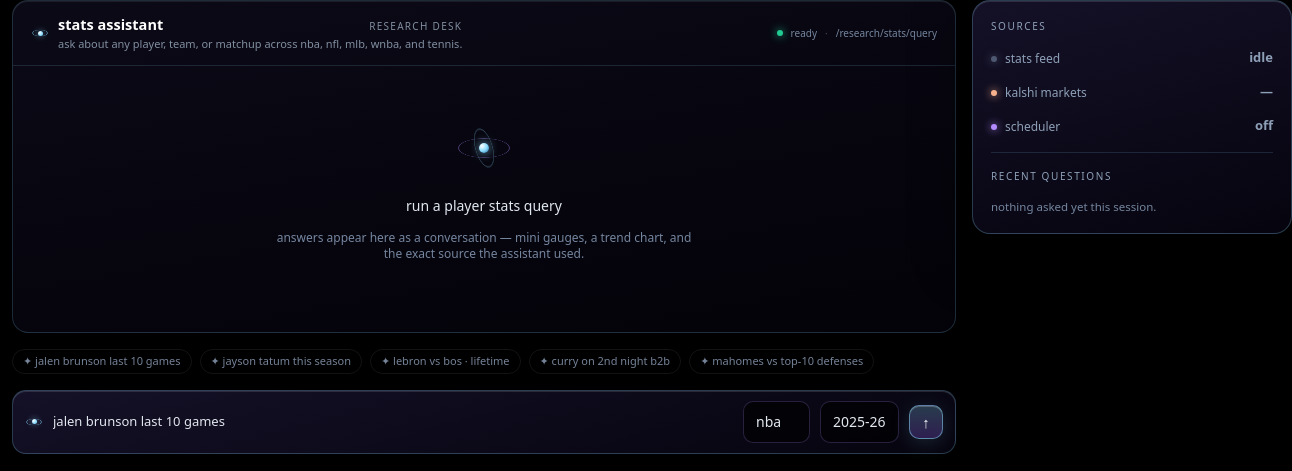
it: StatsWorkspace — Phase 2 sa-* rewrite › swapping sport also swaps the question to that sport's first example (case-exact keys)
This screenshot has width=1292, height=471.
Select "Tennis" in the dropdown with test id "sa-sport". click: (776, 422)
box: [756,411,797,432]
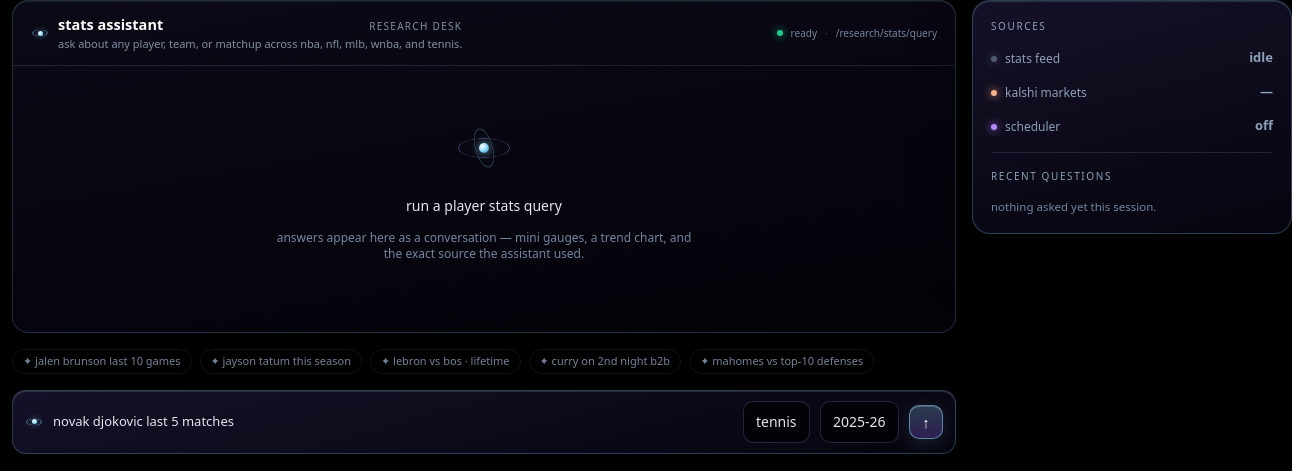
Check: the field with test id "sa-input" holds "Novak Djokovic last 5 matches", box [53,412,733,432]
